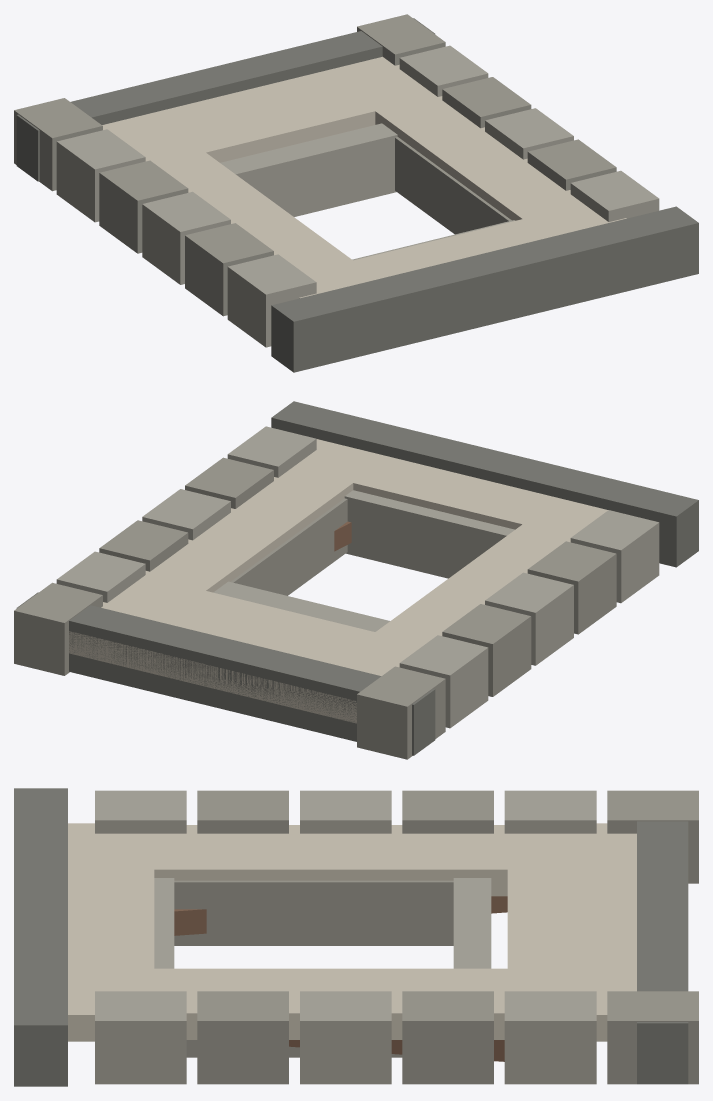
File: tier05_dressed_stone_wall_with_window.glb
3 renders of one model, top to bottom at view 1: azimuth 30°, elevation 25°; view 2: azimuth 150°, elevation 25°; view 3: azimuth 270°, elevation 25°, orthographic. The views are drawn at different scales.
Parts seen in each view (by area): view 1: tier05_dressed_stone_wall_with_window_016, tier05_dressed_stone_wall_with_window_001, tier05_dressed_stone_wall_with_window_000, tier05_dressed_stone_wall_with_window_002, tier05_dressed_stone_wall_with_window_017, tier05_dressed_stone_wall_with_window_021, tier05_dressed_stone_wall_with_window_003, tier05_dressed_stone_wall_with_window_024, tier05_dressed_stone_wall_with_window_009, tier05_dressed_stone_wall_with_window_006, tier05_dressed_stone_wall_with_window_005, tier05_dressed_stone_wall_with_window_007 (+8 smaller); view 2: tier05_dressed_stone_wall_with_window_017, tier05_dressed_stone_wall_with_window_002, tier05_dressed_stone_wall_with_window_016, tier05_dressed_stone_wall_with_window_001, tier05_dressed_stone_wall_with_window_000, tier05_dressed_stone_wall_with_window_003, tier05_dressed_stone_wall_with_window_022, tier05_dressed_stone_wall_with_window_004, tier05_dressed_stone_wall_with_window_010, tier05_dressed_stone_wall_with_window_024, tier05_dressed_stone_wall_with_window_005, tier05_dressed_stone_wall_with_window_006 (+9 smaller); view 3: tier05_dressed_stone_wall_with_window_000, tier05_dressed_stone_wall_with_window_002, tier05_dressed_stone_wall_with_window_023, tier05_dressed_stone_wall_with_window_001, tier05_dressed_stone_wall_with_window_016, tier05_dressed_stone_wall_with_window_003, tier05_dressed_stone_wall_with_window_017, tier05_dressed_stone_wall_with_window_011, tier05_dressed_stone_wall_with_window_012, tier05_dressed_stone_wall_with_window_013, tier05_dressed_stone_wall_with_window_014, tier05_dressed_stone_wall_with_window_015 (+11 smaller).
Boxes of the visible parts, box(x1,y1,x2,y2) form: tier05_dressed_stone_wall_with_window_016: box(271, 206, 698, 372); tier05_dressed_stone_wall_with_window_001: box(322, 56, 623, 237); tier05_dressed_stone_wall_with_window_000: box(102, 113, 378, 297); tier05_dressed_stone_wall_with_window_002: box(152, 70, 382, 162); tier05_dressed_stone_wall_with_window_017: box(16, 18, 434, 181); tier05_dressed_stone_wall_with_window_021: box(220, 123, 397, 216); tier05_dressed_stone_wall_with_window_003: box(299, 205, 626, 298); tier05_dressed_stone_wall_with_window_024: box(395, 137, 511, 234); tier05_dressed_stone_wall_with_window_009: box(227, 254, 316, 347); tier05_dressed_stone_wall_with_window_006: box(99, 160, 188, 253); tier05_dressed_stone_wall_with_window_005: box(56, 129, 145, 222); tier05_dressed_stone_wall_with_window_007: box(142, 191, 230, 284); tier05_dressed_stone_wall_with_window_017: box(16, 592, 435, 755); tier05_dressed_stone_wall_with_window_002: box(69, 576, 414, 723); tier05_dressed_stone_wall_with_window_016: box(271, 401, 698, 567); tier05_dressed_stone_wall_with_window_001: box(101, 439, 388, 622); tier05_dressed_stone_wall_with_window_000: box(333, 498, 596, 675); tier05_dressed_stone_wall_with_window_003: box(293, 440, 608, 536); tier05_dressed_stone_wall_with_window_022: box(344, 490, 514, 578); tier05_dressed_stone_wall_with_window_004: box(357, 666, 445, 759); tier05_dressed_stone_wall_with_window_010: box(14, 582, 102, 675); tier05_dressed_stone_wall_with_window_024: box(231, 498, 347, 595); tier05_dressed_stone_wall_with_window_005: box(399, 635, 488, 728); tier05_dressed_stone_wall_with_window_006: box(442, 604, 531, 696); tier05_dressed_stone_wall_with_window_000: box(68, 825, 636, 896); tier05_dressed_stone_wall_with_window_002: box(507, 823, 636, 1041); tier05_dressed_stone_wall_with_window_023: box(174, 880, 453, 945); tier05_dressed_stone_wall_with_window_001: box(68, 968, 636, 1039); tier05_dressed_stone_wall_with_window_016: box(14, 788, 67, 1086); tier05_dressed_stone_wall_with_window_003: box(68, 823, 154, 1041); tier05_dressed_stone_wall_with_window_017: box(637, 821, 688, 1084); tier05_dressed_stone_wall_with_window_011: box(504, 991, 596, 1084); tier05_dressed_stone_wall_with_window_012: box(402, 991, 493, 1084); tier05_dressed_stone_wall_with_window_013: box(300, 991, 391, 1084); tier05_dressed_stone_wall_with_window_014: box(197, 991, 288, 1084); tier05_dressed_stone_wall_with_window_015: box(95, 991, 186, 1084).
Size of the model in its own units: 2.08 by 0.37 by 2.54.
